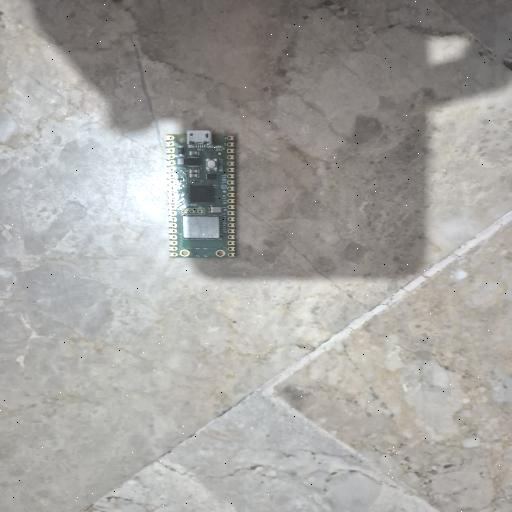raspberry-pi-pico-w: (164, 124, 245, 261)
